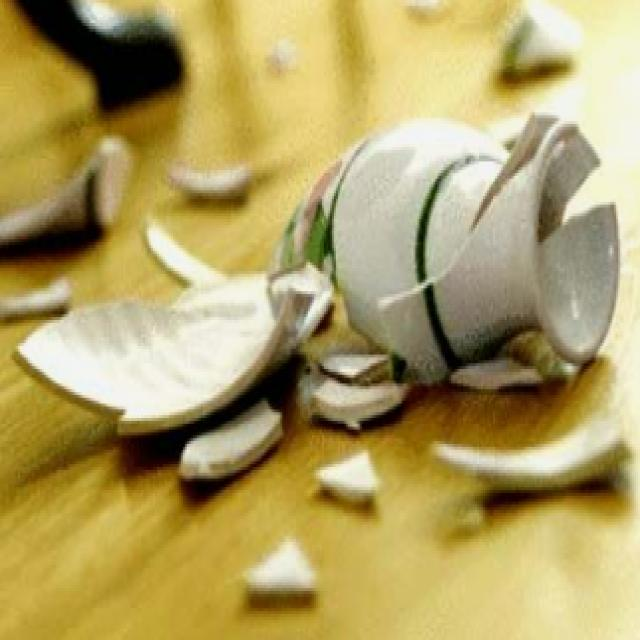PecahanKaca: (12, 107, 628, 496), (272, 107, 620, 392)
